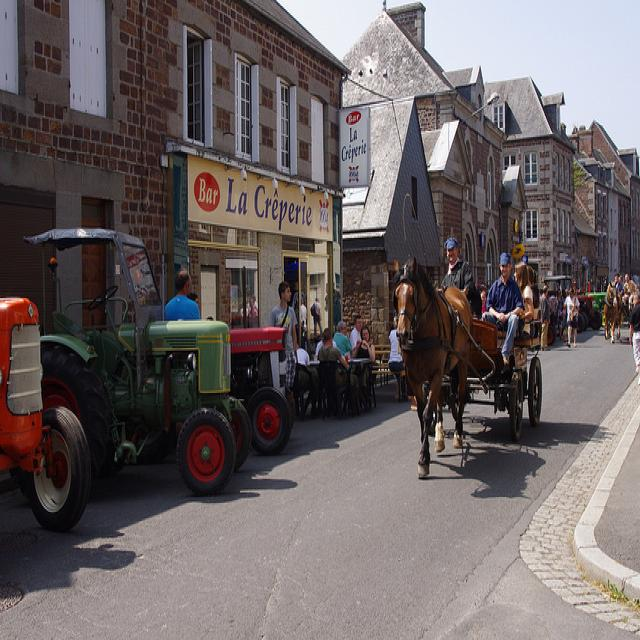chair: (319, 360, 354, 422), (293, 363, 317, 418), (366, 373, 377, 408)
dining table: (307, 352, 372, 366)
